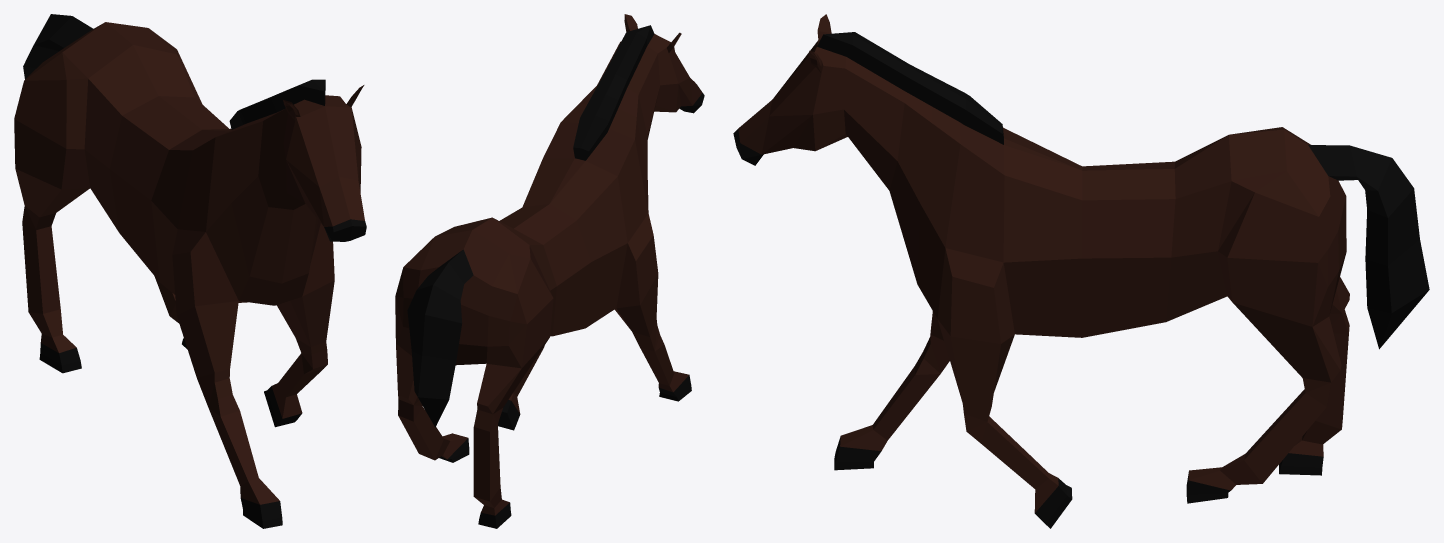
The model's file is Horse_000016.obj.
3 views of the same model, side by side, from view 1: azimuth 30°, elevation 25°; view 2: azimuth 150°, elevation 25°; view 3: azimuth 270°, elevation 25° (orthographic). The views are drawn at different scales.
Visible parts, largest first — view 1: Horse_Cylinder; view 2: Horse_Cylinder; view 3: Horse_Cylinder.
Boxes of the visible parts, bbox=[...] form: Horse_Cylinder: bbox=[14, 14, 366, 528]; Horse_Cylinder: bbox=[395, 14, 704, 528]; Horse_Cylinder: bbox=[733, 14, 1429, 528].
Bounding box in the file's own units: 2.6 × 6.69 × 9.26.
